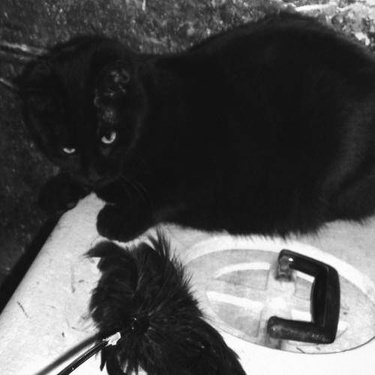cat: (10, 11, 371, 241)
